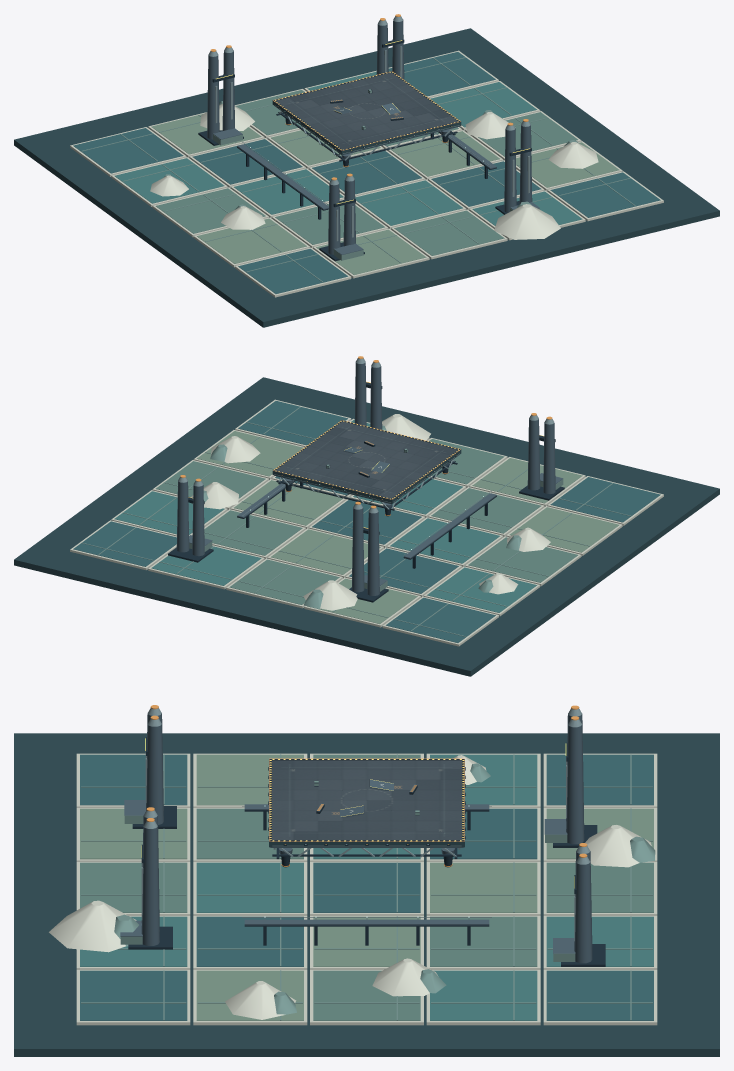
Rendered from saltworks-arena.glb.
3 views of the same model, one above another, from view 1: azimuth 30°, elevation 25°; view 2: azimuth 150°, elevation 25°; view 3: azimuth 270°, elevation 25° (orthographic). The views are drawn at different scales.
Visible parts, largest first — view 1: MeshStandardMaterial (×13), Painted steel deck; view 2: MeshStandardMaterial (×13), Painted steel deck; view 3: MeshStandardMaterial (×15), Painted steel deck.
Boxes of the visible parts, x1,y1,x2,y2 form: MeshStandardMaterial (×13): (14, 16, 719, 327); Painted steel deck: (276, 72, 458, 150); MeshStandardMaterial (×13): (14, 358, 719, 676); Painted steel deck: (275, 421, 458, 498); MeshStandardMaterial (×15): (14, 708, 719, 1056); Painted steel deck: (269, 759, 464, 841).
Bounding box in the file's own units: 183 × 36.95 × 173.
Materials: 29 (1 with a texture image).
